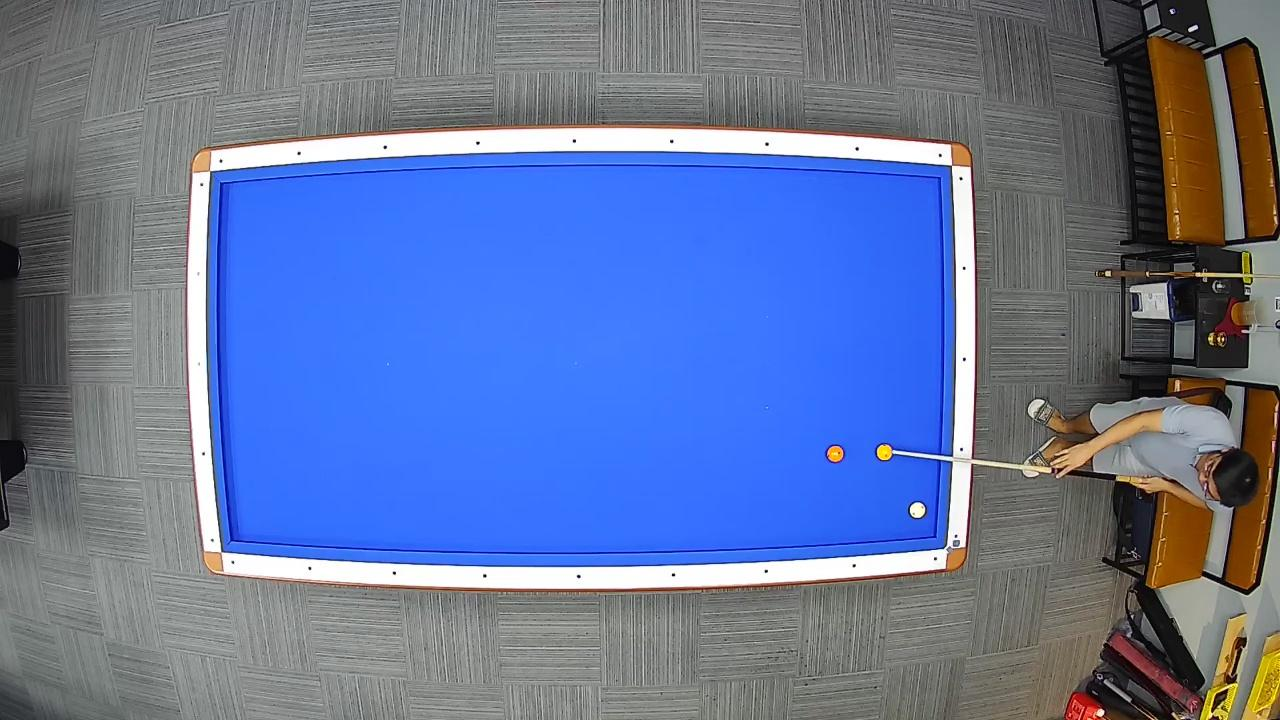Orange: (824, 444, 846, 464)
White: (908, 502, 927, 520)
Yellow: (875, 443, 894, 463)
